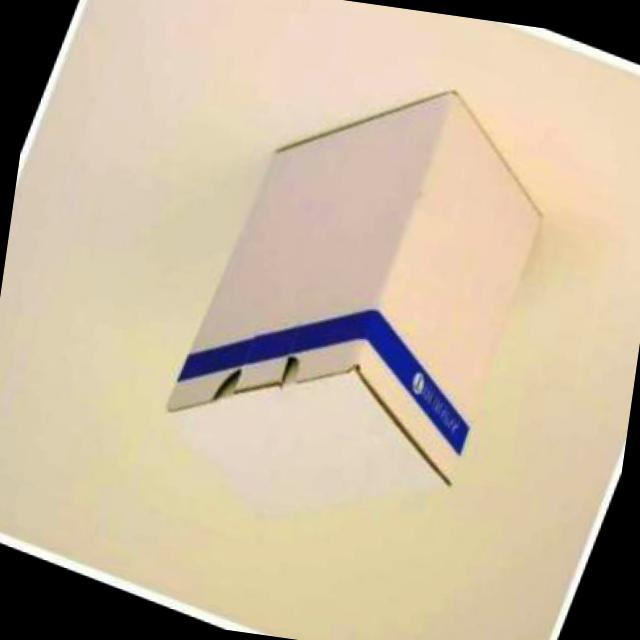box: (131, 19, 594, 597)
